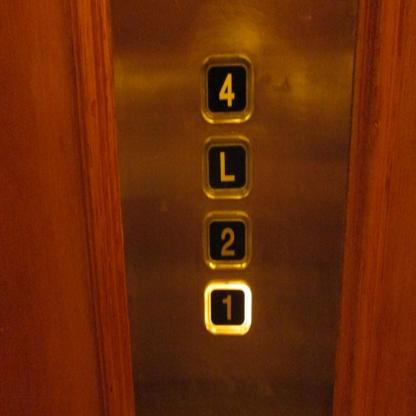1: (203, 279, 252, 337)
2: (201, 208, 253, 270)
4: (199, 52, 254, 125)
L: (202, 133, 254, 200)
